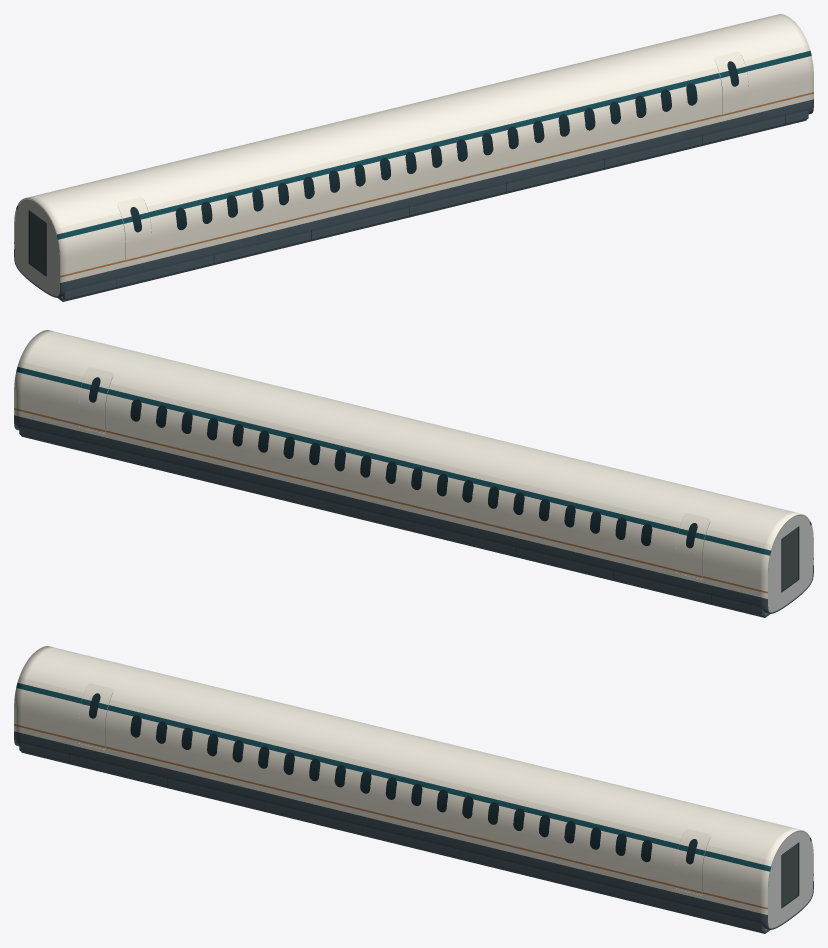
The model's file is maglev-middle.glb.
3 views of the same model, one above another, from view 1: azimuth 30°, elevation 25°; view 2: azimuth 150°, elevation 25°; view 3: azimuth 330°, elevation 25° (orthographic).
Parts seen in each view (by area): view 1: body, door_right_front, door_right_rear; view 2: body, door_left_front, door_left_rear; view 3: body, door_right_rear, door_right_front.
Boxes of the visible parts, left/top/right/bottom form: body: left=14, top=14, right=813, bottom=301; door_right_front: left=714, top=51, right=748, bottom=117; door_right_rear: left=117, top=197, right=151, bottom=262; body: left=14, top=330, right=813, bottom=617; door_left_front: left=79, top=367, right=113, bottom=433; door_left_rear: left=676, top=513, right=710, bottom=578; body: left=14, top=646, right=813, bottom=933; door_right_rear: left=79, top=683, right=113, bottom=749; door_right_front: left=676, top=829, right=710, bottom=894.
Size of the model in its own units: 27 by 2.95 by 2.93.
